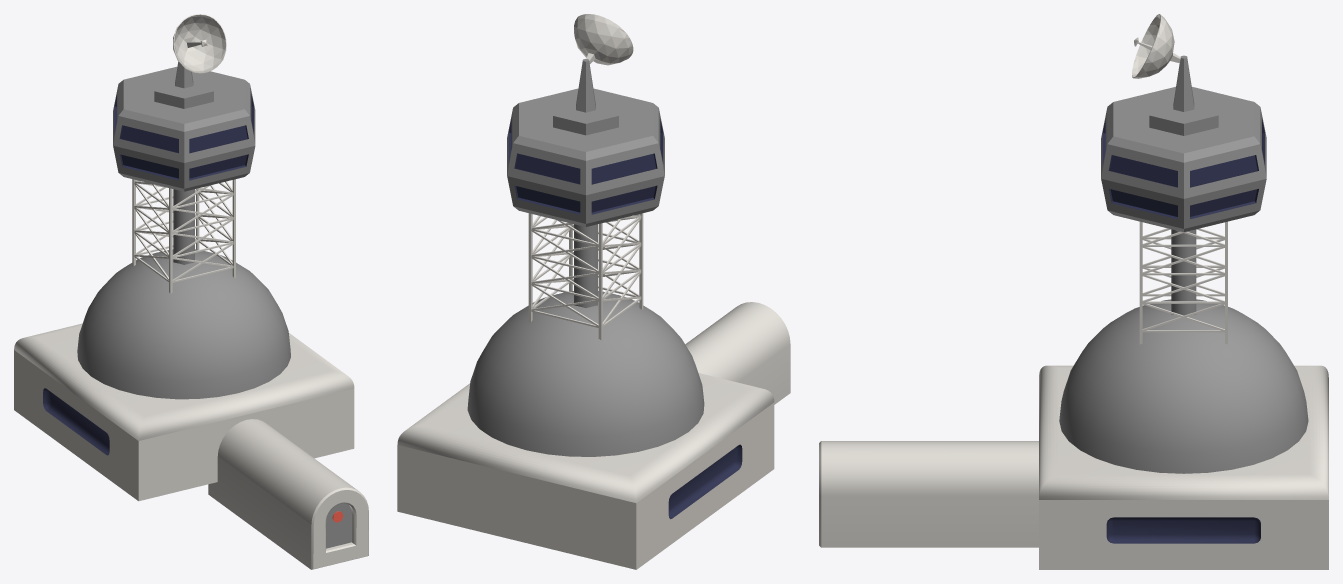
The model's file is 06 signal center.FBX.
3 views of the same model, side by side, from view 1: azimuth 30°, elevation 25°; view 2: azimuth 150°, elevation 25°; view 3: azimuth 270°, elevation 25° (orthographic). The views are drawn at different scales.
Visible parts, largest first — view 1: Cylinder036; view 2: Cylinder036; view 3: Cylinder036.
Part boxes in pixels (box(x1,y1,x2,y2)): Cylinder036: box(14, 14, 368, 569); Cylinder036: box(397, 14, 790, 569); Cylinder036: box(819, 14, 1328, 569).
Size of the model in its own units: 3000 by 5862 by 5275.
